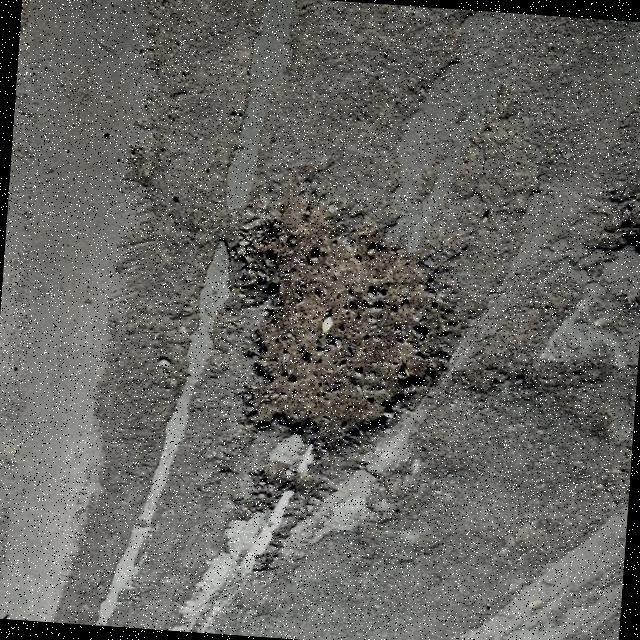Pothole: (227, 199, 460, 459)
